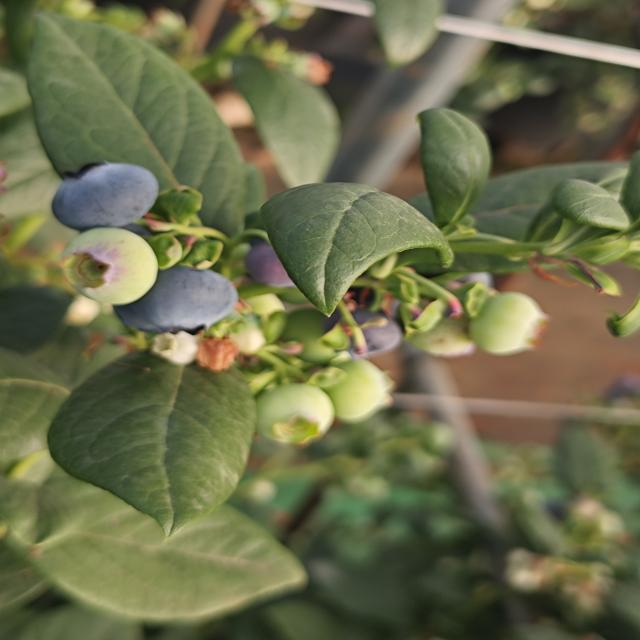ripe: (104, 264, 237, 340), (35, 157, 173, 230), (400, 250, 503, 318), (313, 300, 401, 363), (230, 232, 318, 294)
